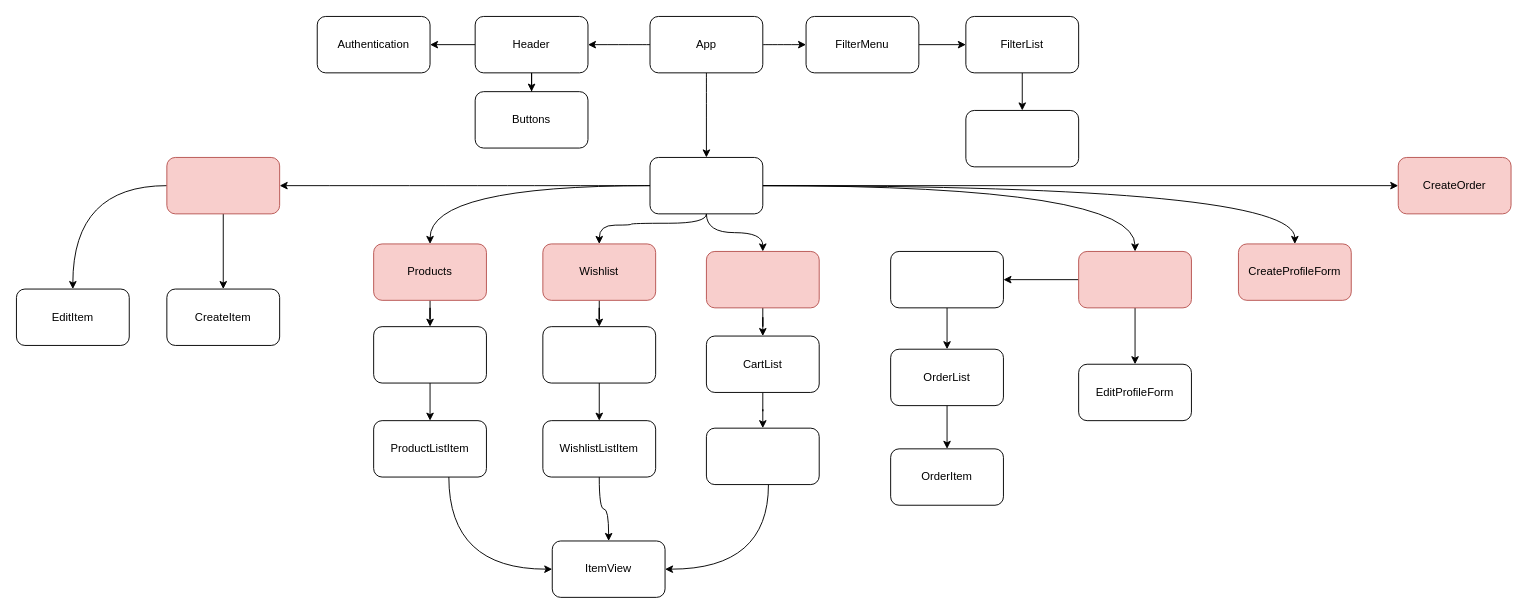
The diagram is 1528 pixels wide and 614 high, and some of its shapes have lost their labels. The shapes that lost their labels are listed below. From the top down, each one's centre as x and y in pixels, then its label:
At point 1022,138: "FilterItem".
At point 223,185: "AdminView".
At point 706,185: "Dashboard".
At point 762,279: "Cart".
At point 946,279: "OrderHistory".
At point 1134,279: "ViewProfile".
At point 429,354: "ProductList".
At point 599,354: "WishlistList".
At point 762,456: "CartListItem".
